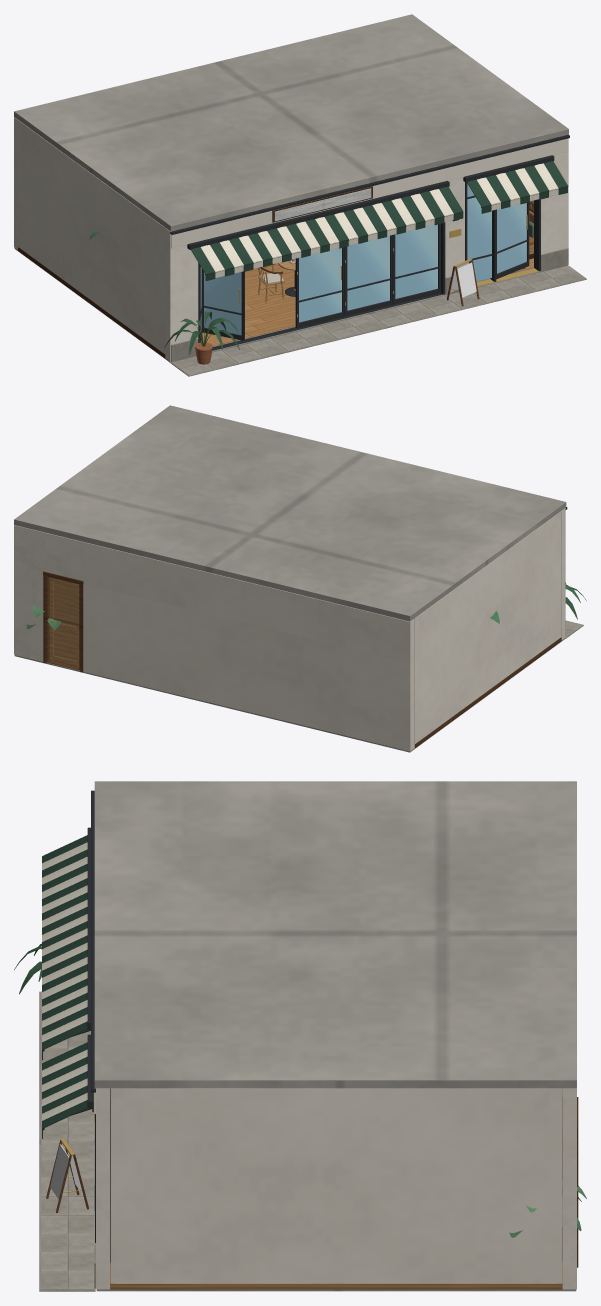
The model's file is kr_atelier_cafe_interior-mobile.glb.
3 views of the same model, one above another, from view 1: azimuth 30°, elevation 25°; view 2: azimuth 150°, elevation 25°; view 3: azimuth 270°, elevation 25° (orthographic). The views are drawn at different scales.
Parts seen in each view (by area): view 1: BG_Cutaway_Front, BG_Ceiling, BG_Shell_Fixed, BG_Furnishings; view 2: BG_Ceiling, BG_Shell_Fixed, BG_Cutaway_Front, BG_Furnishings; view 3: BG_Ceiling, BG_Shell_Fixed, BG_Cutaway_Front, BG_Furnishings.
Boxes of the visible parts, x1,y1,x2,y2 form: BG_Cutaway_Front: (18,121,569,361); BG_Ceiling: (14,14,568,231); BG_Shell_Fixed: (14,117,586,376); BG_Furnishings: (89,206,533,364); BG_Ceiling: (14,405,566,621); BG_Shell_Fixed: (14,525,583,752); BG_Cutaway_Front: (414,507,567,747); BG_Furnishings: (26,582,586,629); BG_Ceiling: (94,781,576,1088); BG_Shell_Fixed: (39,991,578,1291); BG_Cutaway_Front: (42,790,110,1289); BG_Furnishings: (14,943,586,1237).
Bounding box in the file's own units: 10.27 × 3.3 × 8.1.
2 materials, 2 textured.
